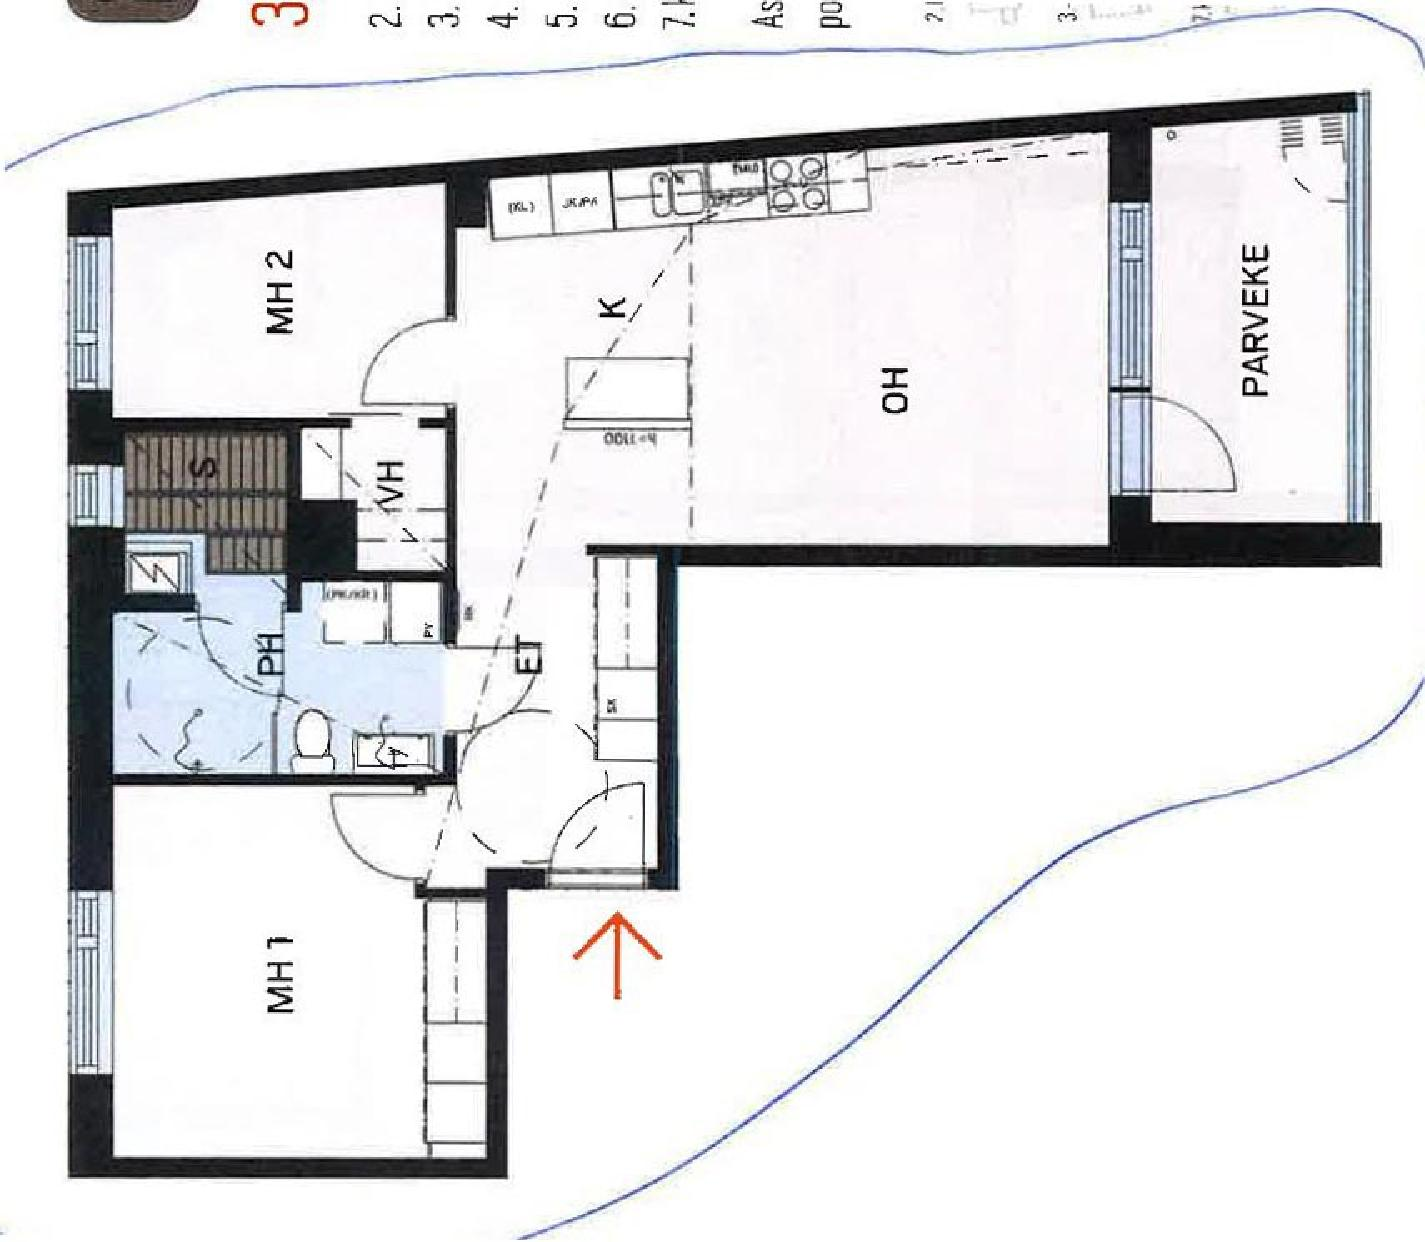door: (1098, 387, 1247, 505), (545, 768, 656, 893), (330, 790, 456, 891), (360, 311, 454, 413), (446, 648, 540, 727)
window: (64, 888, 118, 1083), (1108, 198, 1155, 397), (63, 236, 102, 396), (64, 460, 101, 523)
zone: (462, 134, 1120, 865), (105, 785, 497, 1171), (105, 198, 475, 427), (1152, 124, 1355, 525), (118, 559, 446, 775), (128, 427, 287, 596), (297, 429, 456, 580)
